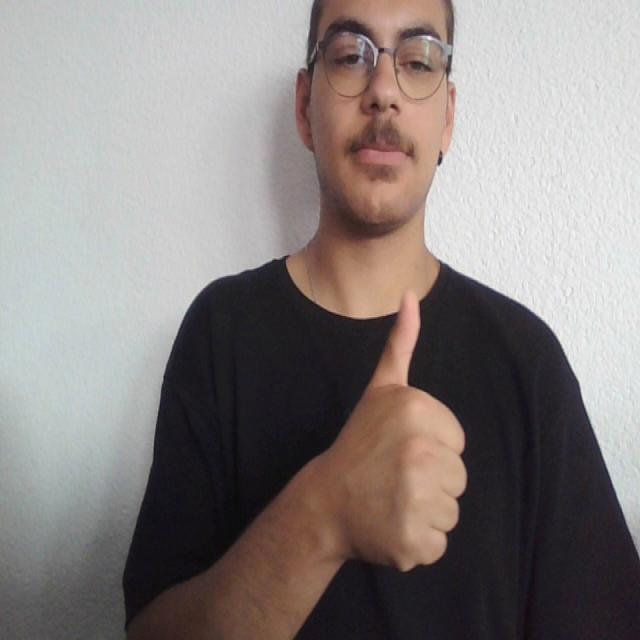Tamam: (309, 284, 470, 585)
